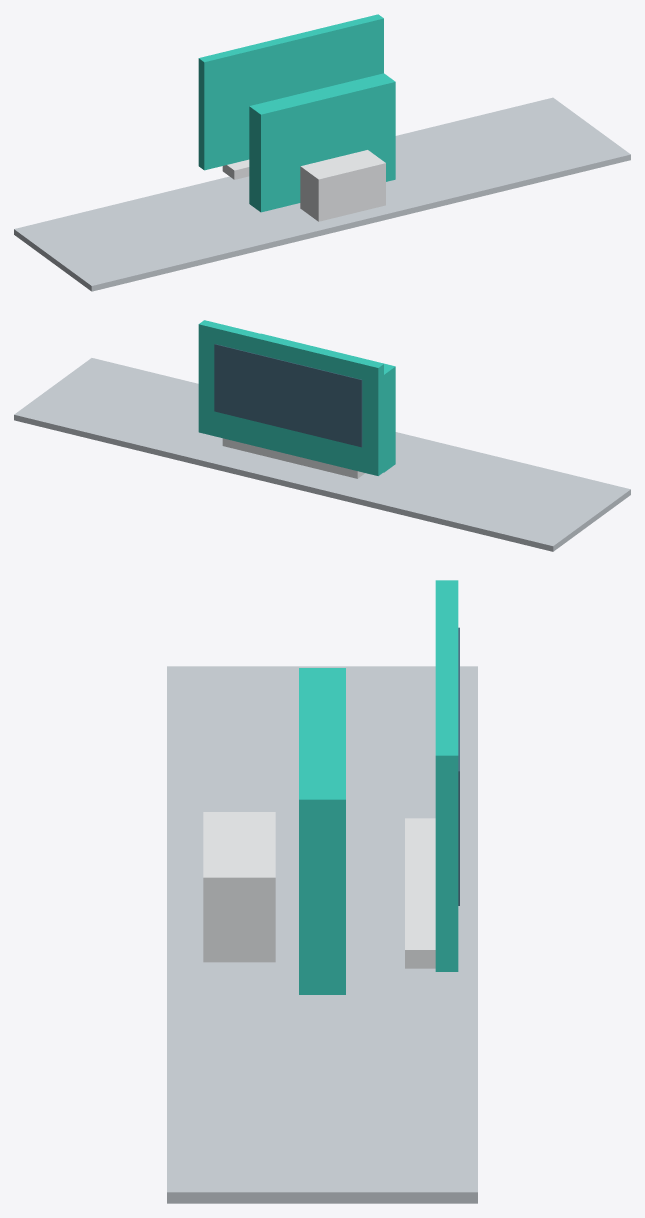
The picture shows the model from 3 angles, top to bottom: view 1: azimuth 30°, elevation 25°; view 2: azimuth 150°, elevation 25°; view 3: azimuth 270°, elevation 25°; orthographic projection. The views are drawn at different scales.
Visible parts, largest first — view 1: Exhibition Booth Concept; view 2: Exhibition Booth Concept; view 3: Exhibition Booth Concept.
Boxes of the visible parts, x1,y1,x2,y2 form: Exhibition Booth Concept: (14,14,630,291); Exhibition Booth Concept: (14,320,630,551); Exhibition Booth Concept: (167,580,477,1203).
Bounding box in the file's own units: 12 × 2.9 × 3.
